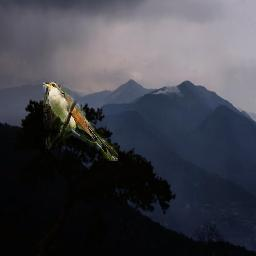Cuckoo: (44, 83, 119, 162)
